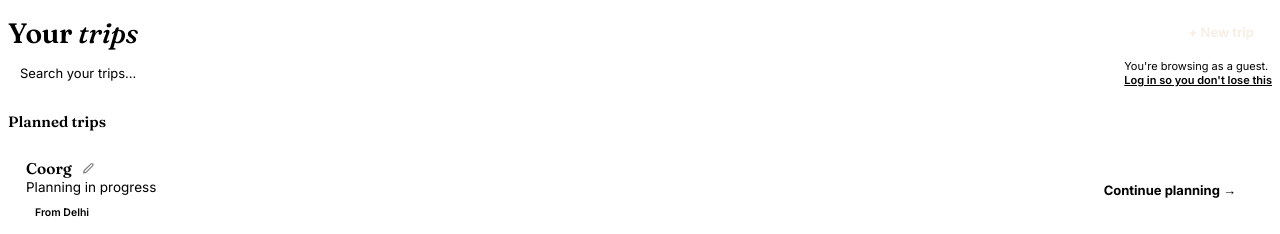
it: DashboardHome › shows a "+ New trip" menu when trips exist
Check: the text "Coorg" is shown, box [26, 157, 100, 179]
Click the button "+ New trip" at [1221, 32], box [1171, 12, 1272, 52]
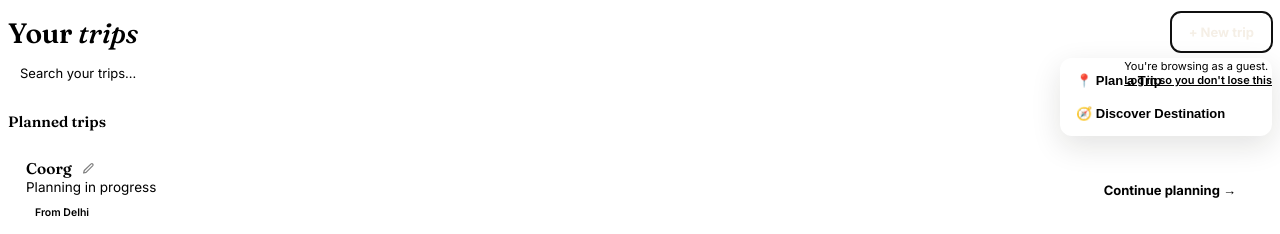
Check: the menu is shown, box [1060, 58, 1272, 136]
Check: the menu item "📍 Plan a Trip" is shown, box [1066, 64, 1266, 97]
Check: the menu item "🧭 Discover Destination" is shown, box [1066, 97, 1266, 130]
